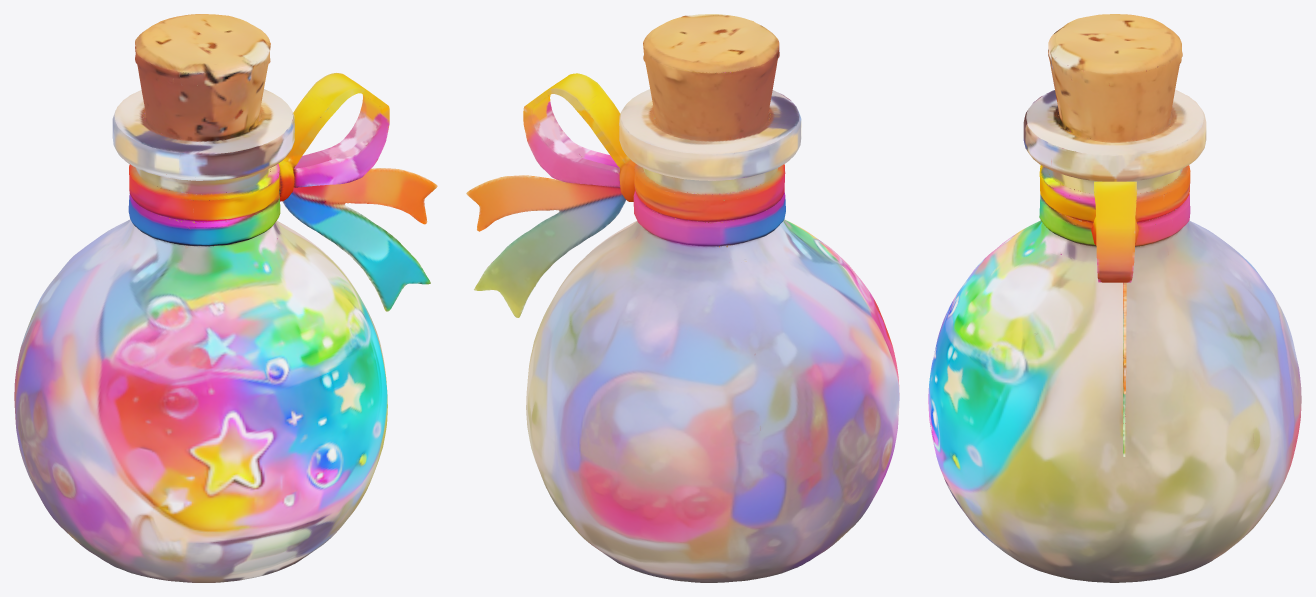
File: base_basic_shaded.fbx
3 renders of one model, left to right at view 1: azimuth 30°, elevation 25°; view 2: azimuth 150°, elevation 25°; view 3: azimuth 270°, elevation 25°, orthographic.
Visible parts, largest first — view 1: model; view 2: model; view 3: model.
Part boxes in pixels (box(x1,y1,x2,y2)): model: box(14, 14, 437, 582); model: box(466, 14, 899, 582); model: box(928, 14, 1301, 582).
Bounding box in the file's own units: 162 × 190 × 130.
